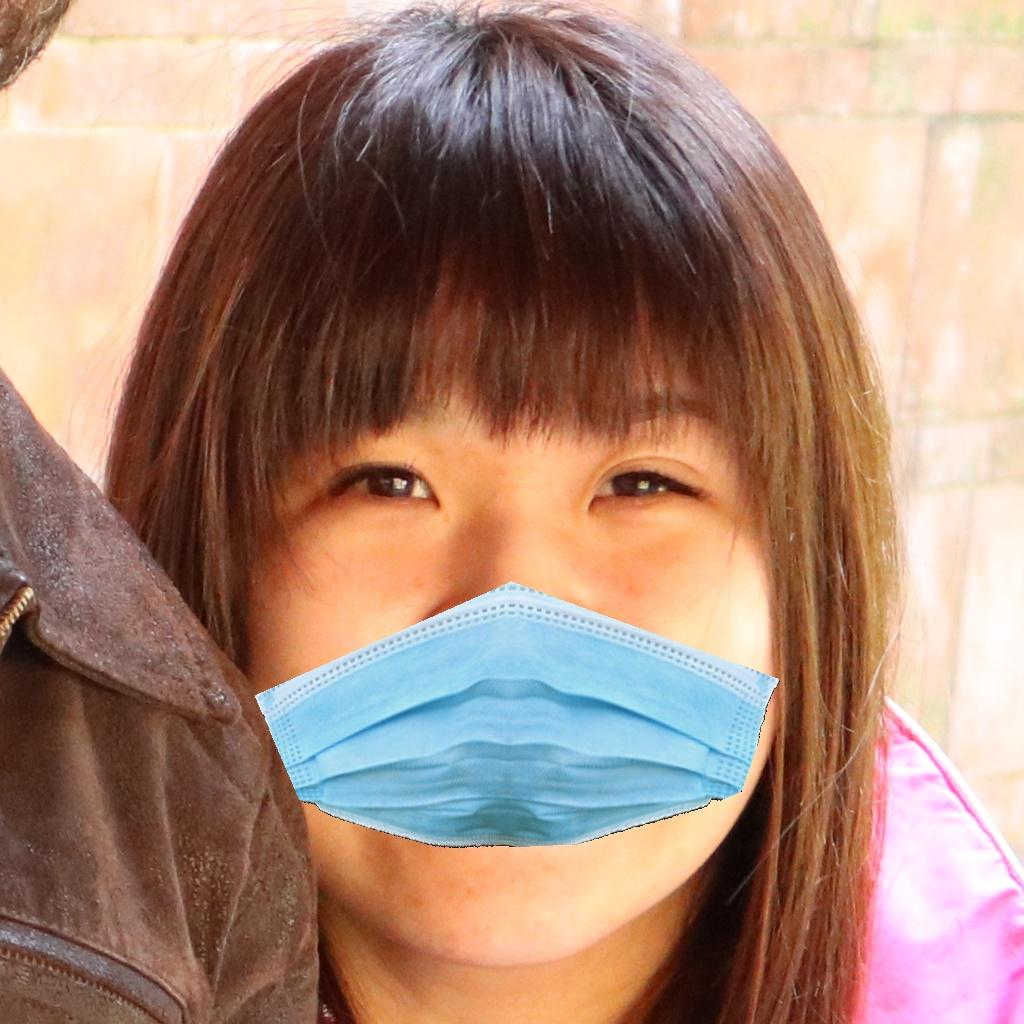Com Máscara: (253, 295, 767, 938)
